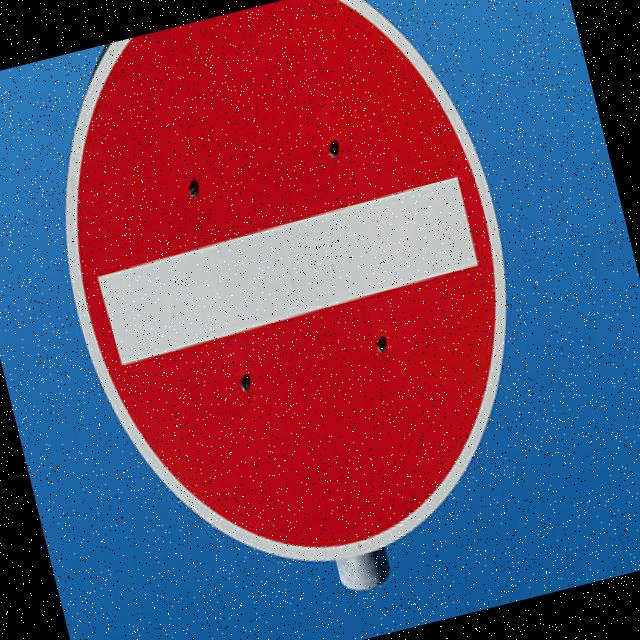do_not_enter: (9, 0, 582, 619)
